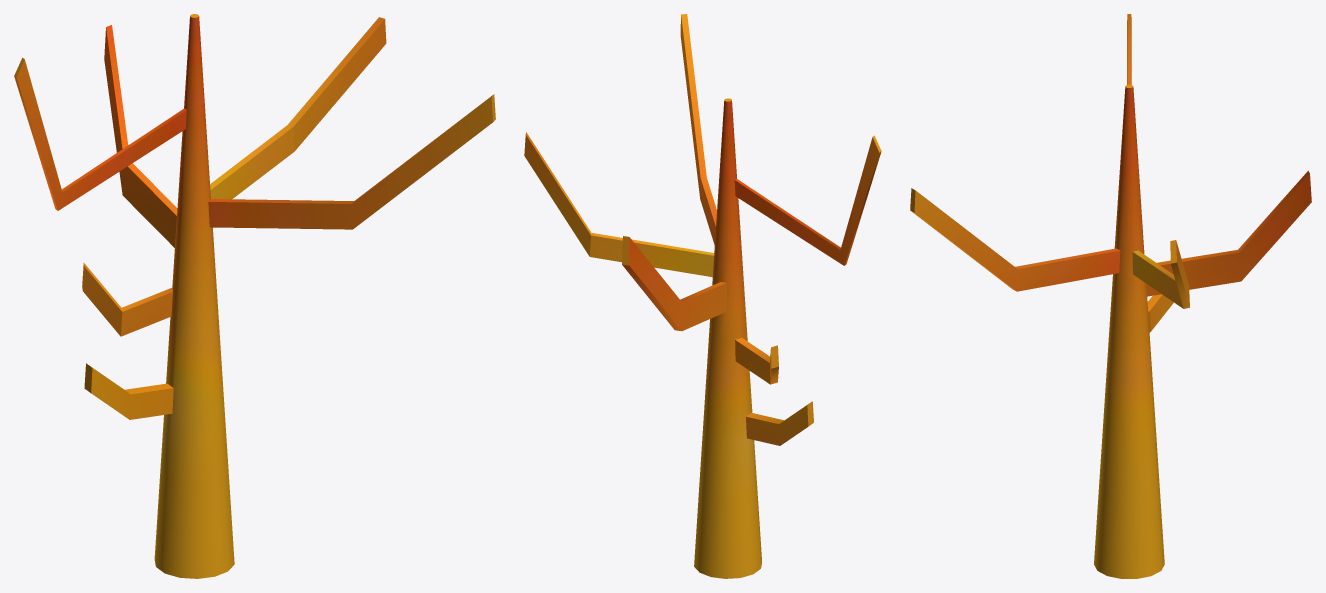
File: Tree_2.fbx
The picture shows the model from 3 angles, left to right: view 1: azimuth 30°, elevation 25°; view 2: azimuth 150°, elevation 25°; view 3: azimuth 270°, elevation 25°; orthographic projection. The views are drawn at different scales.
Parts seen in each view (by area): view 1: Tree_2; view 2: Tree_2; view 3: Tree_2.
Boxes of the visible parts, bbox=[...] form: Tree_2: bbox=[14, 14, 495, 578]; Tree_2: bbox=[524, 14, 881, 578]; Tree_2: bbox=[910, 14, 1311, 578].
Bounding box in the file's own units: 313 × 414 × 316.
Materials: 1 (1 with a texture image).
